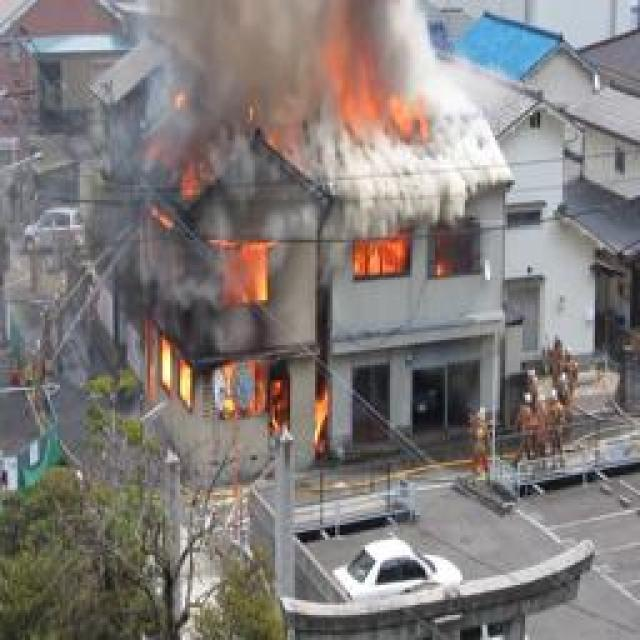Fire: (129, 142, 335, 455), (313, 34, 436, 139), (349, 236, 421, 280)
